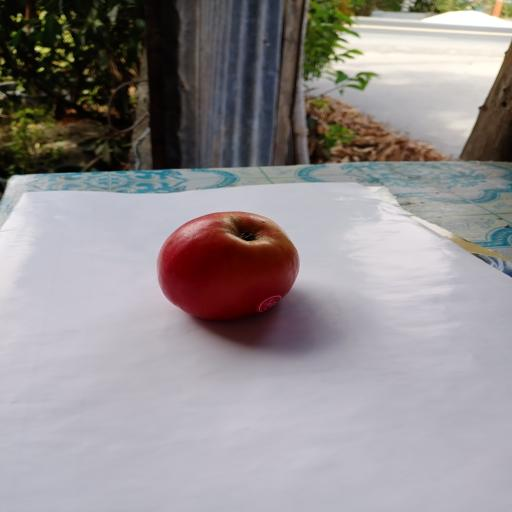apple-ripe: (151, 208, 305, 326)
